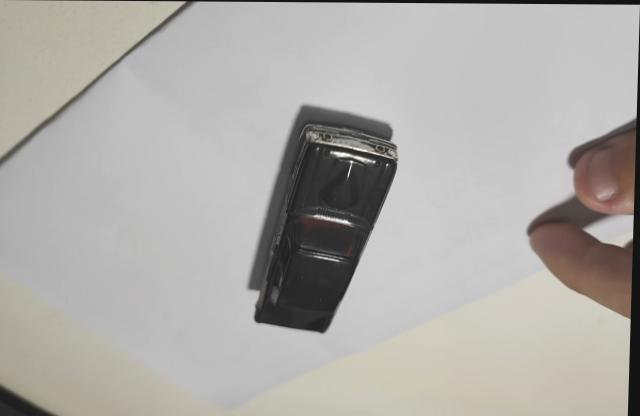01_FORD: (249, 120, 400, 332)
